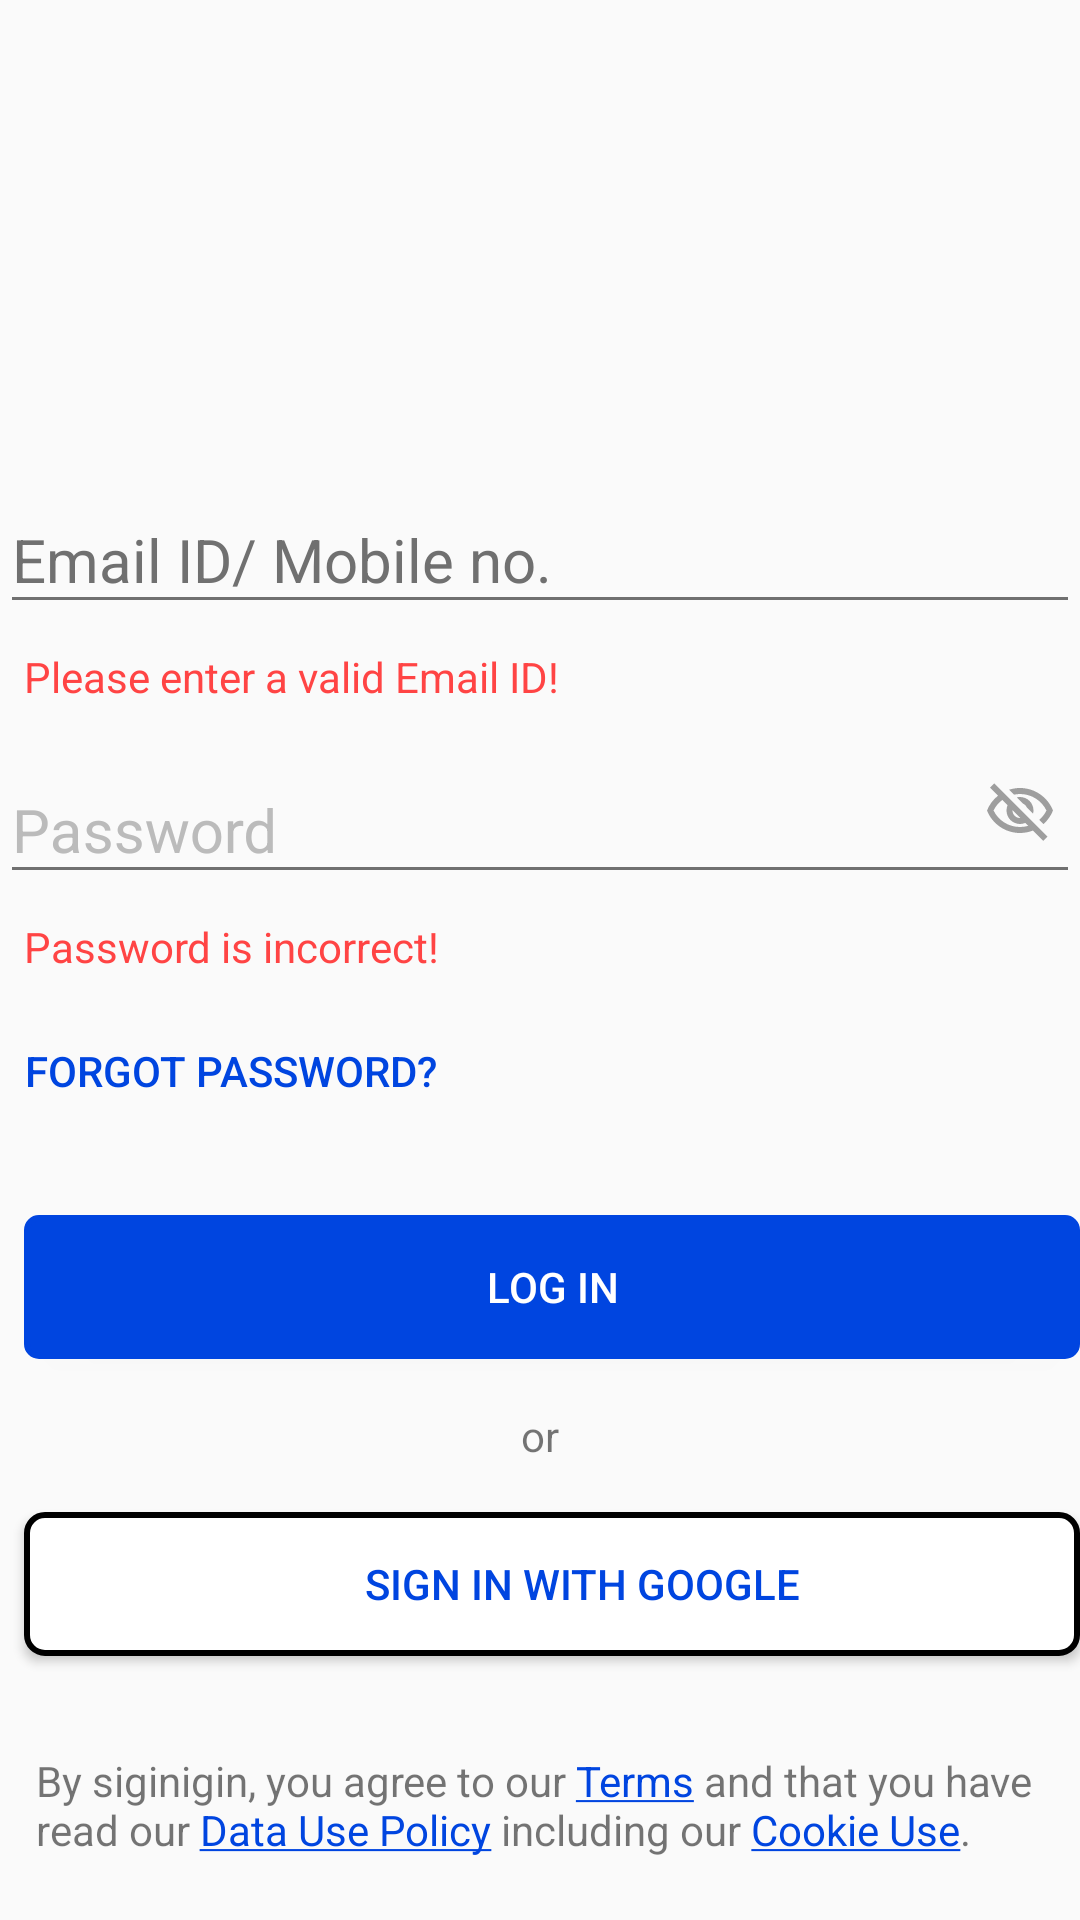

Where icons sit on this 1080px x 1920px app screen, as [left=x1, top=y1, right=x2, bottom=y2]:
visibility off: [left=987, top=783, right=1053, bottom=841]
